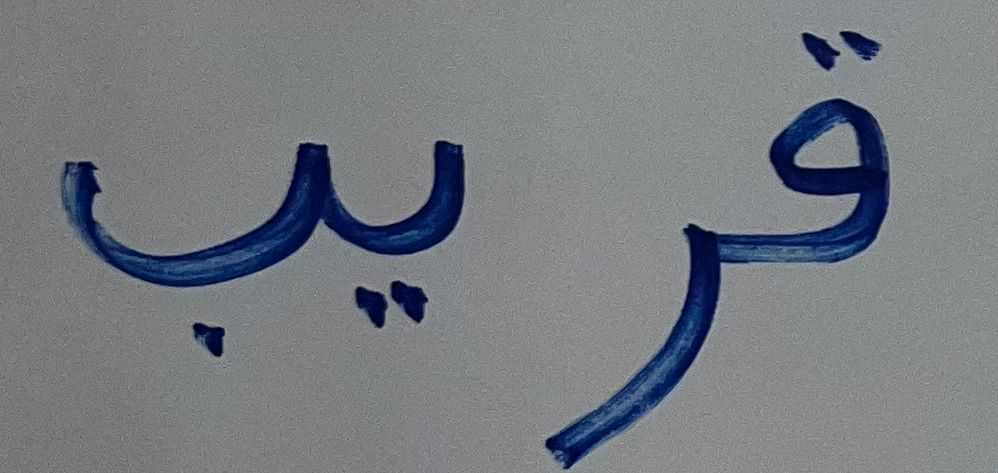beh: (32, 131, 335, 369)
qaf: (747, 11, 925, 290)
reh: (517, 187, 742, 469)
yeh: (340, 118, 479, 341)
